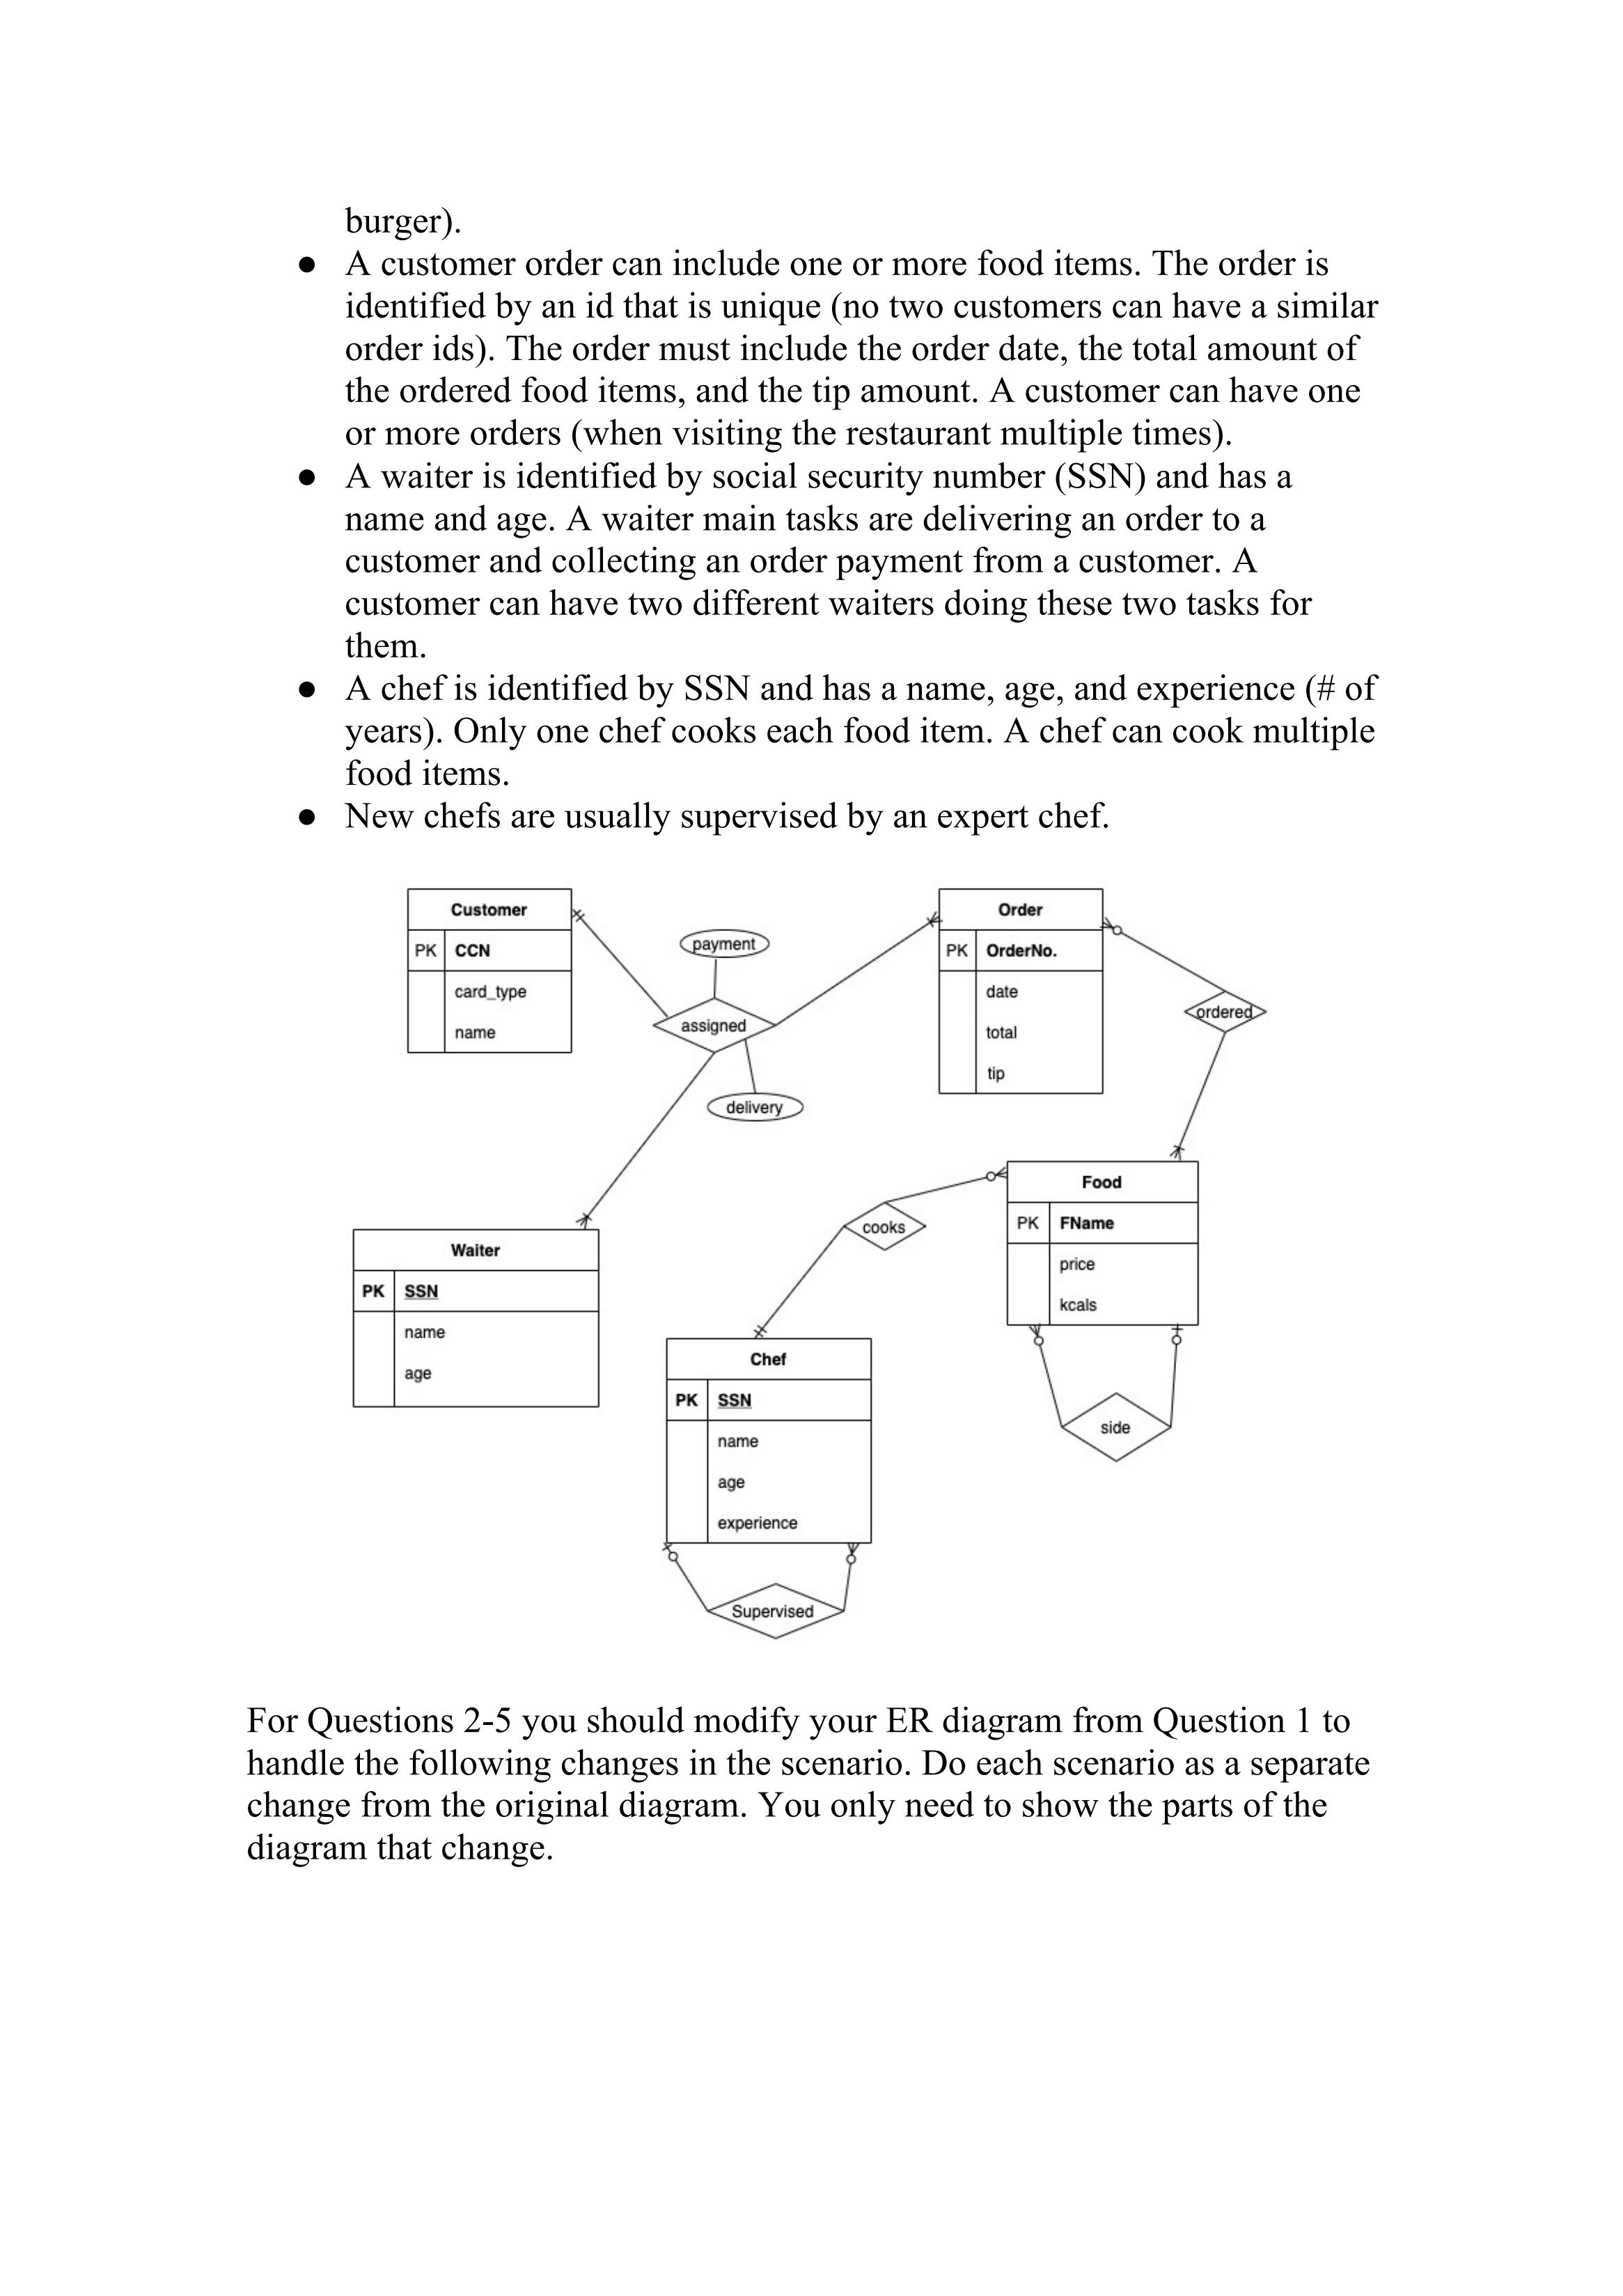Attribute: (706, 1089, 808, 1123), (678, 926, 771, 961)
Entity: (348, 1226, 606, 1418), (660, 1332, 876, 1549), (931, 887, 1107, 1100), (1001, 1159, 1205, 1332), (404, 884, 576, 1056)
Relationship: (703, 1581, 848, 1643), (1056, 1391, 1173, 1463), (646, 994, 782, 1056), (845, 1198, 929, 1254), (1180, 989, 1270, 1033)
